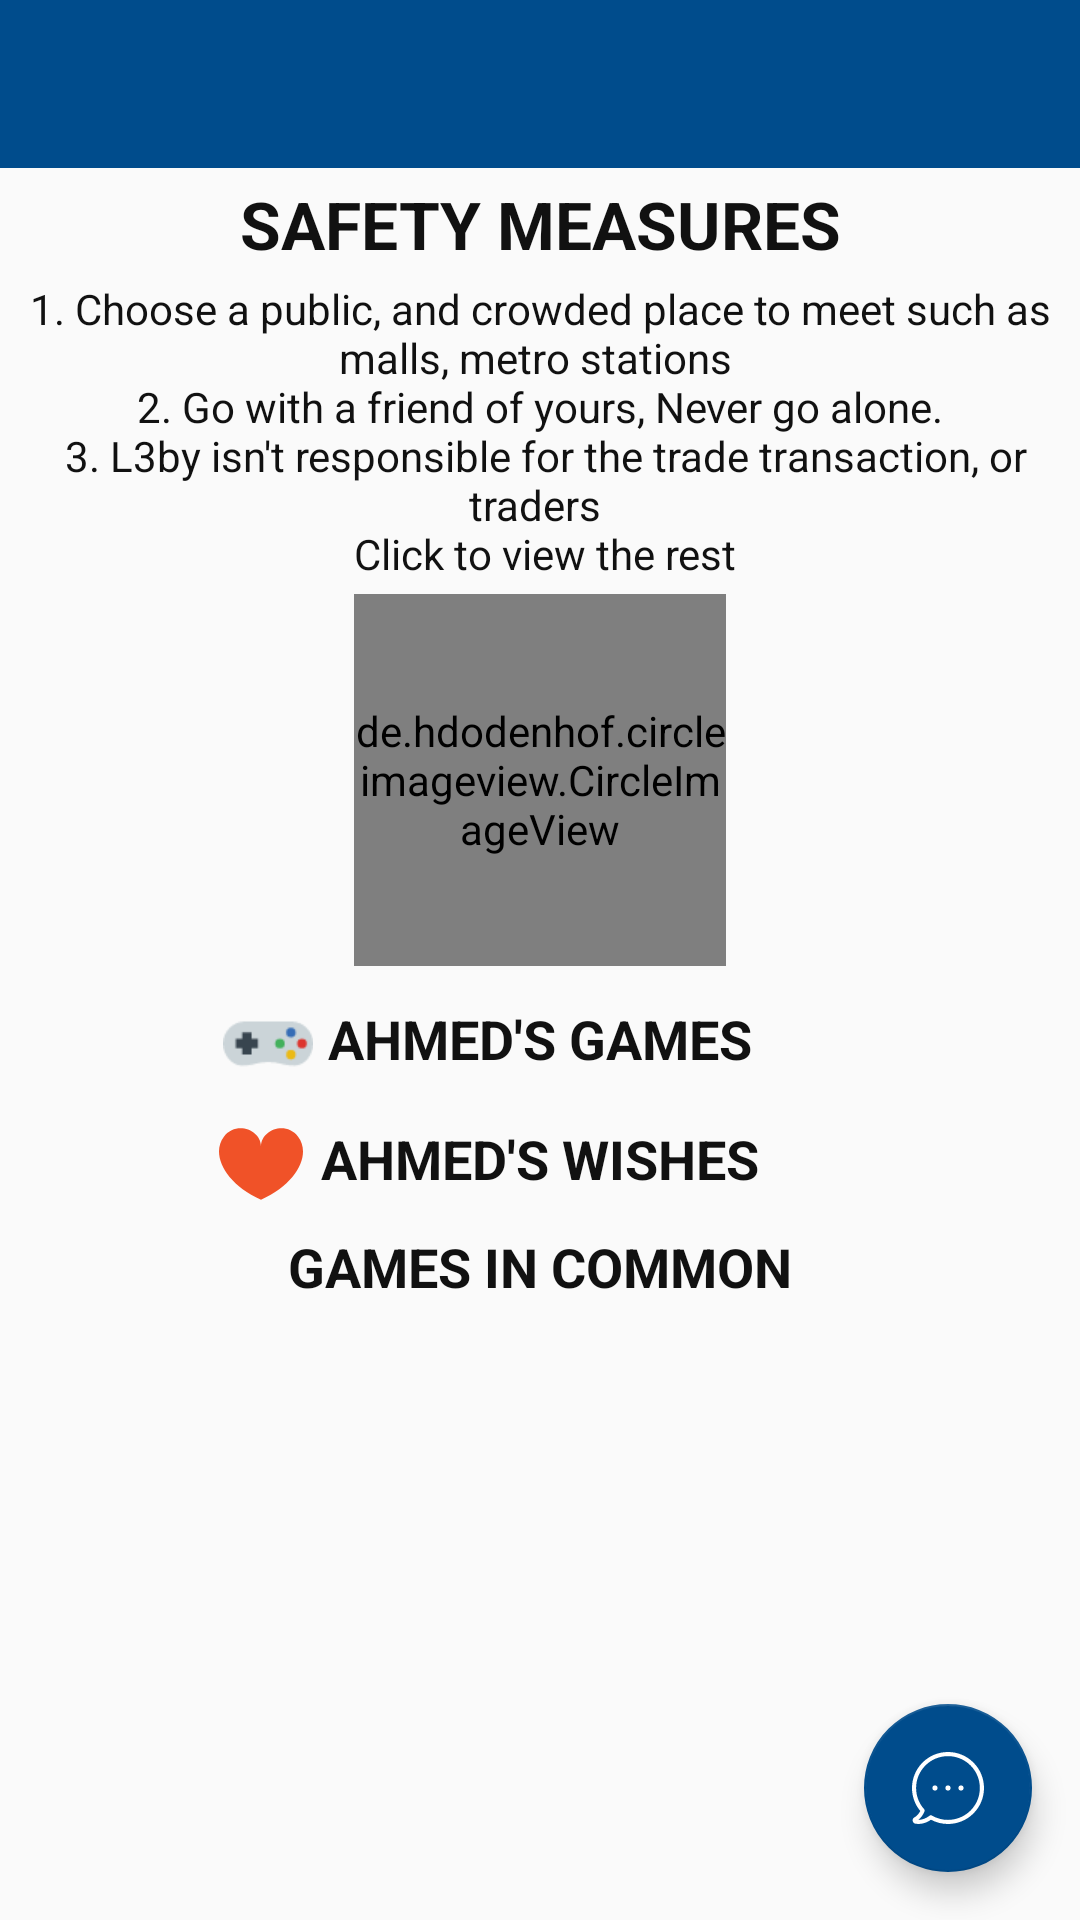

Screen size 1080×1920. Icon name, then its box in pixels as bbox(x1, y1, x2, y2):
chat: bbox(864, 1704, 1032, 1872)
heart: bbox(219, 1128, 303, 1200)
